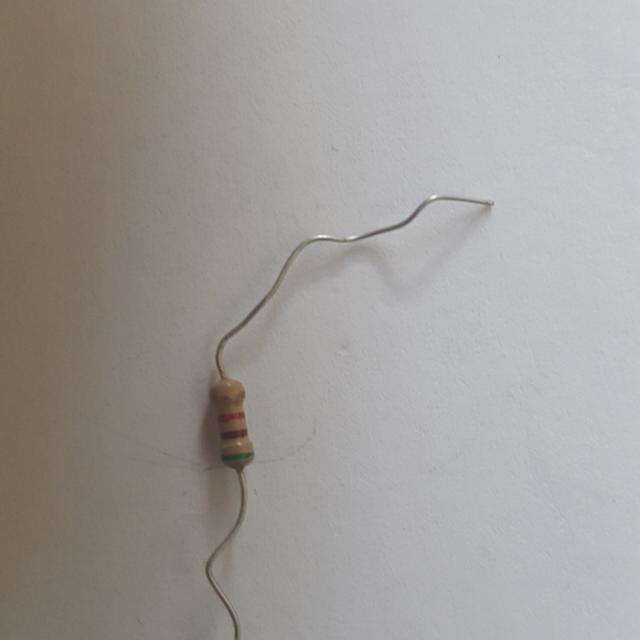brown: (220, 432, 246, 440)
gold: (213, 393, 244, 402)
green: (222, 453, 253, 461)
red: (218, 413, 244, 422)
resistor: (199, 374, 264, 478)
